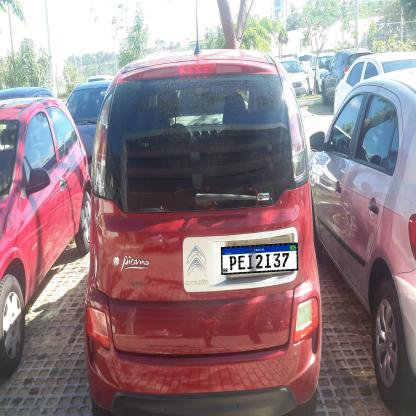PlacaM: (221, 243, 298, 275)
